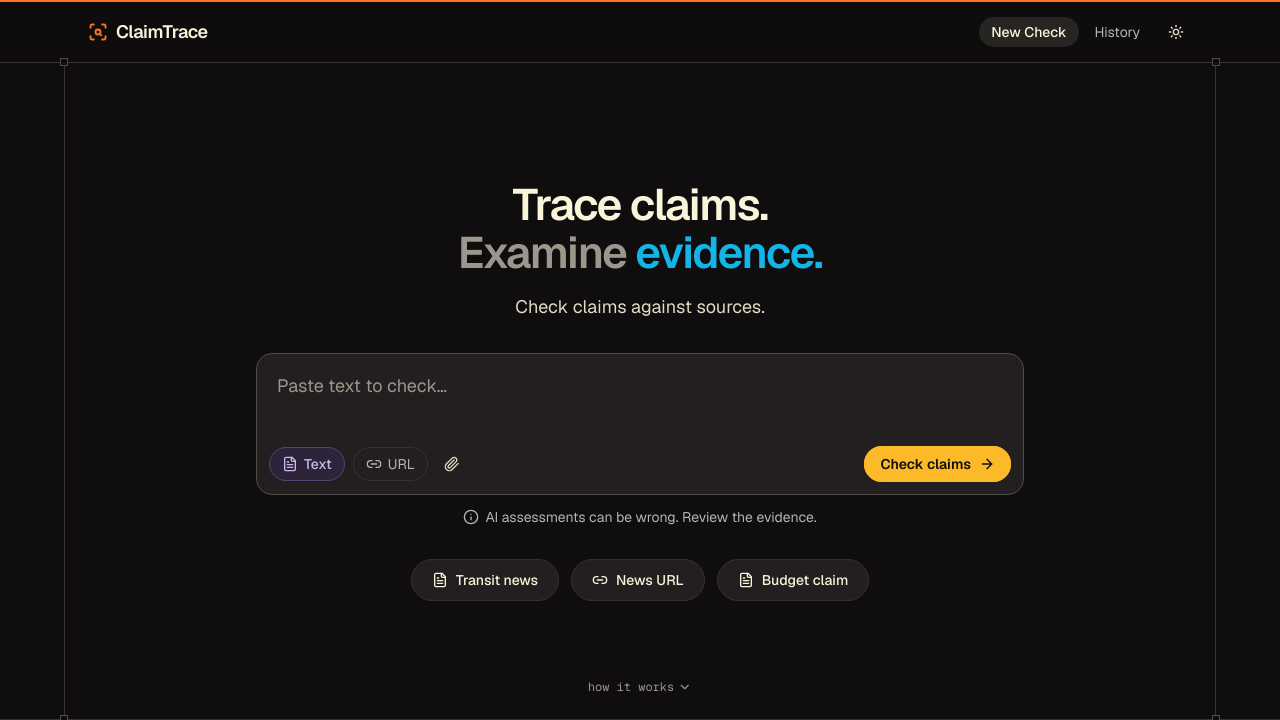
Test: New Check form validation › shows an inline error for short text and does not submit
Step 1. Type "Too short" into the text box labelled "text to check" → coordinates (640, 400), box [269,366,1011,434]
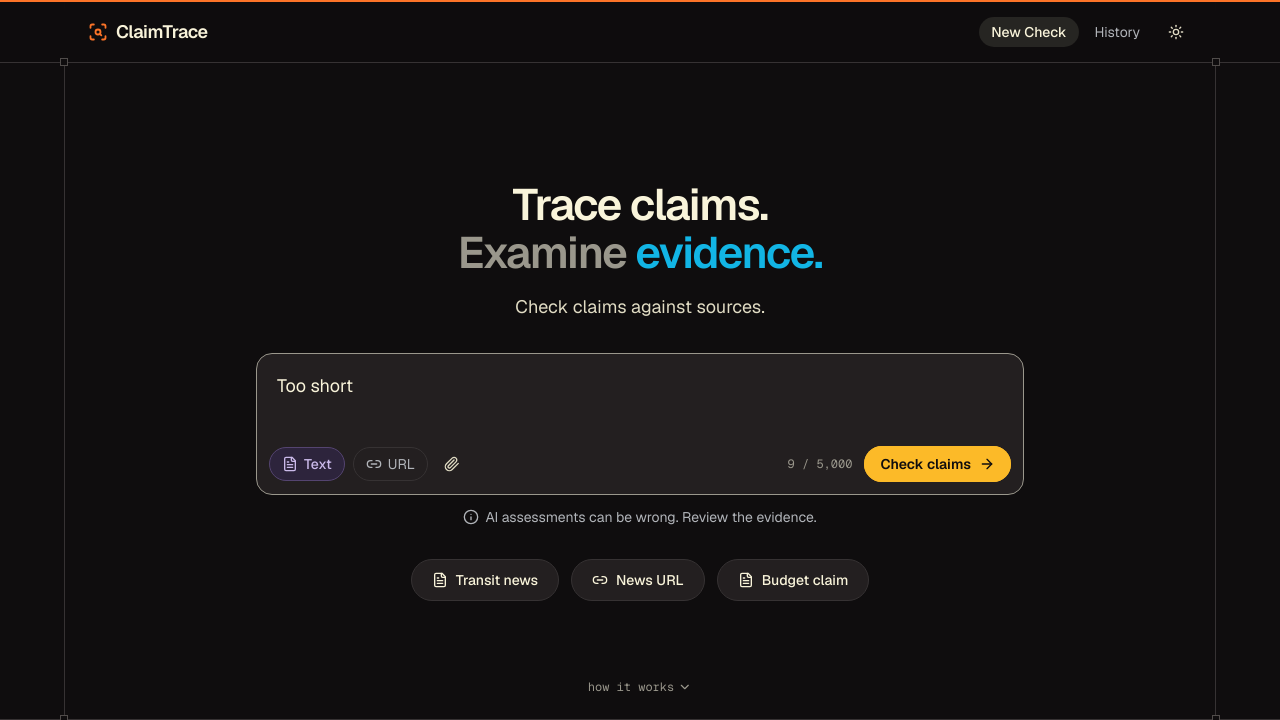
Step 2. Click the button "Check claims" → coordinates (938, 464), box [864,446,1011,482]
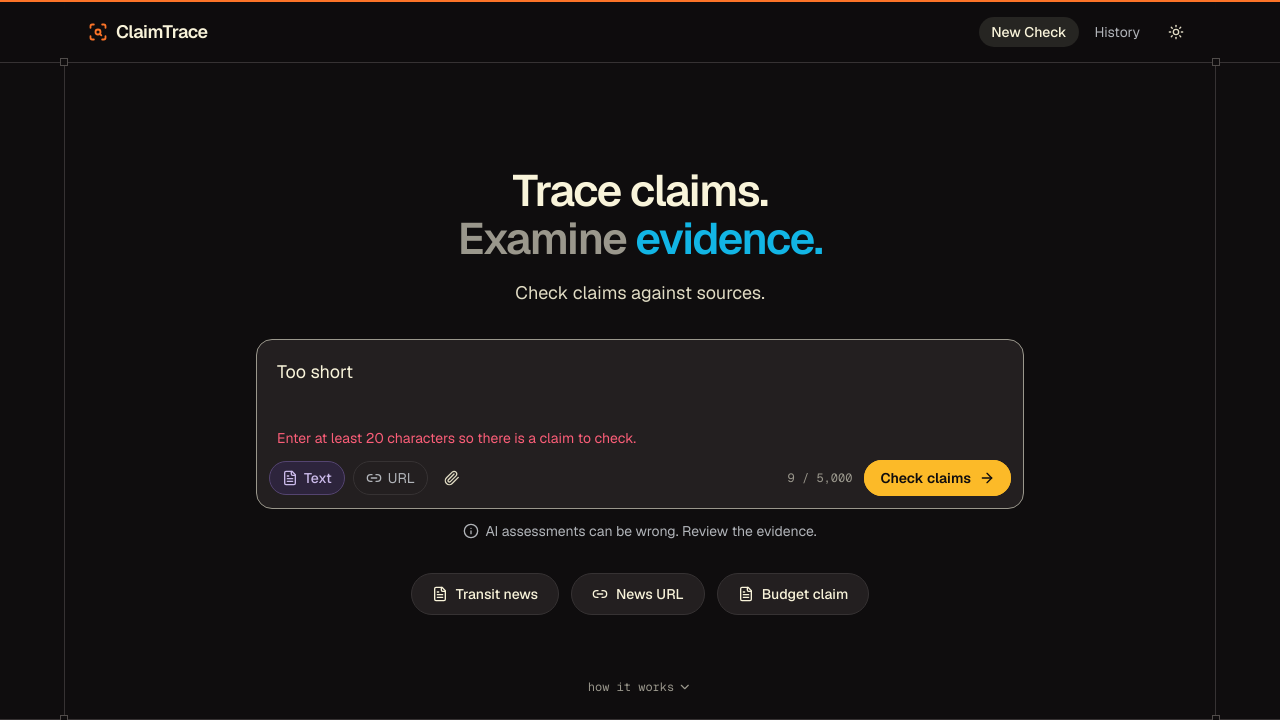
Expected: the heading "Trace claims. Examine evidence." is shown, [458,168,822,262]
Now the message shows "at least 20 characters", box [277,428,636,446]
